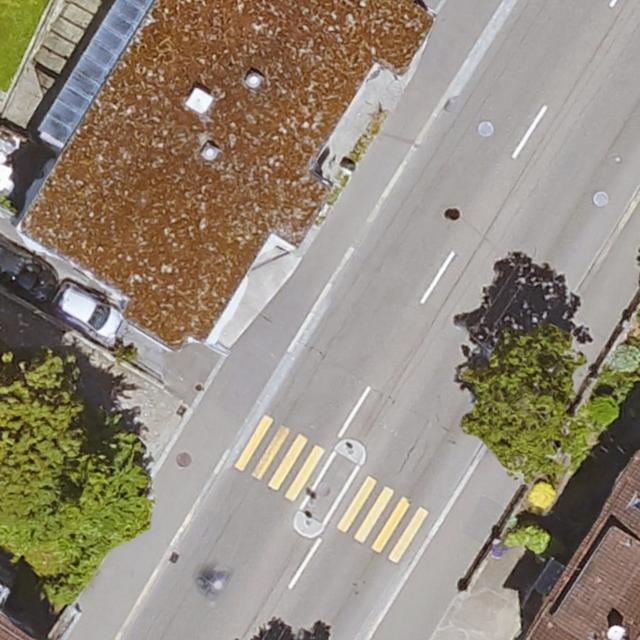tree: (1, 354, 152, 560), (465, 330, 577, 472), (508, 526, 552, 555)
